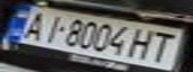0: (93, 20, 115, 54), (78, 19, 100, 51)
4: (109, 24, 133, 57)
8: (60, 16, 87, 48)
A: (12, 8, 54, 41)
H: (124, 26, 163, 61)
I: (36, 12, 69, 44)
T: (142, 29, 184, 64)
